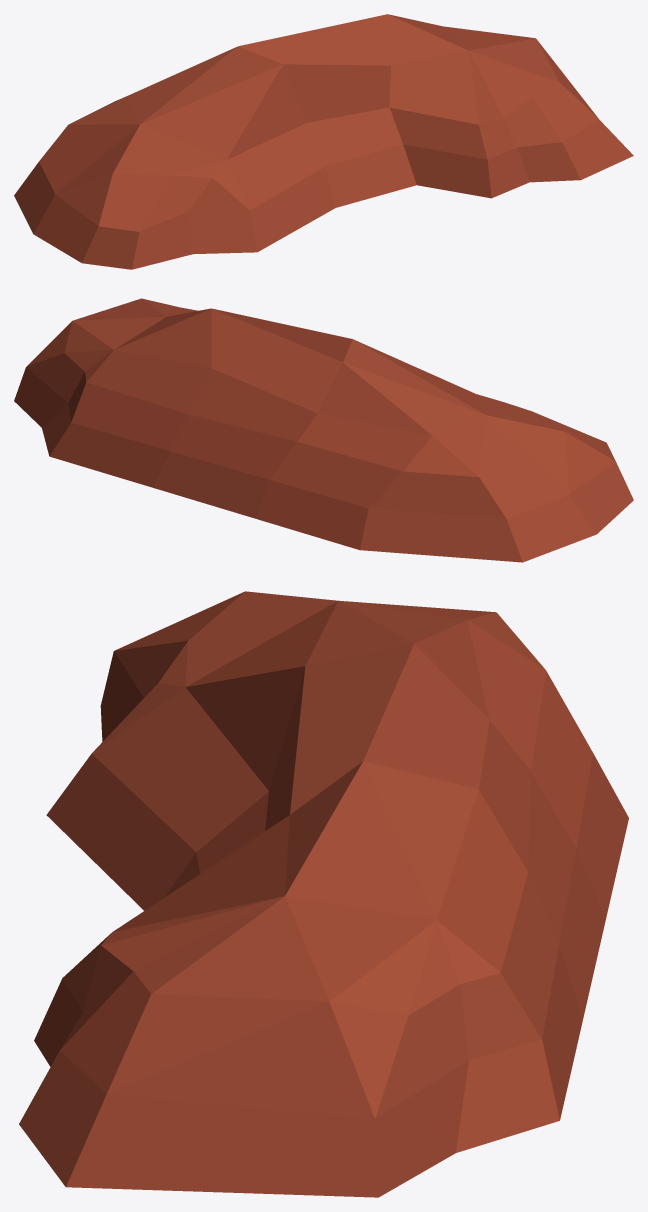
File: SandWall004.fbx
3 renders of one model, top to bottom at view 1: azimuth 30°, elevation 25°; view 2: azimuth 150°, elevation 25°; view 3: azimuth 270°, elevation 25°, orthographic. The views are drawn at different scales.
Visible parts, largest first — view 1: Cylinder007; view 2: Cylinder007; view 3: Cylinder007.
Part boxes in pixels (x1,y1,x2,y2): Cylinder007: (14, 14, 633, 269); Cylinder007: (14, 298, 633, 562); Cylinder007: (19, 591, 628, 1197).
Size of the model in its own units: 1778 by 405 by 867.
